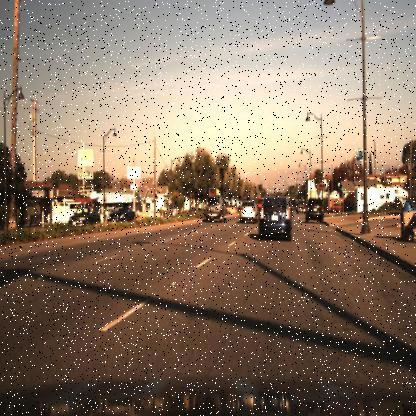car: (258, 196, 292, 243), (200, 187, 227, 223), (68, 204, 101, 233), (107, 204, 138, 225), (236, 200, 257, 228), (303, 197, 325, 223), (329, 199, 343, 219)
truck: (352, 182, 410, 216)
